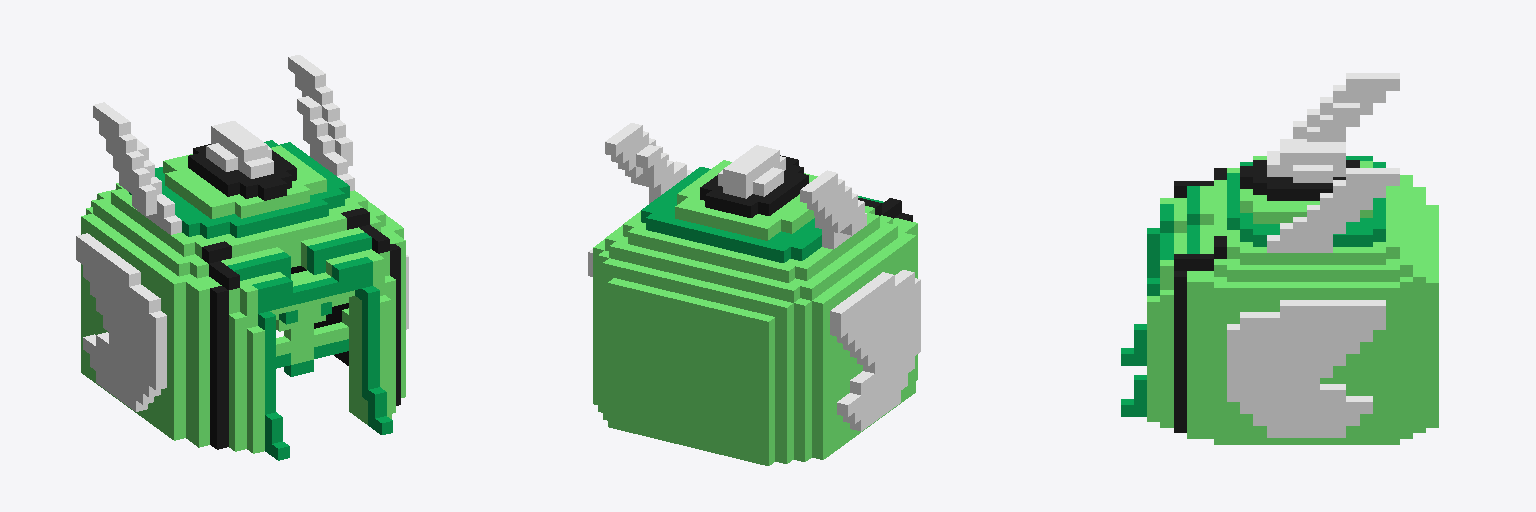
3 renders of one model, left to right at view 1: azimuth 30°, elevation 25°; view 2: azimuth 150°, elevation 25°; view 3: azimuth 270°, elevation 25°, orthographic.
Visible parts, largest first — view 1: object 1; view 2: object 1; view 3: object 1.
Part boxes in pixels (left/top/right/bottom): object 1: left=76, top=55, right=408, bottom=460; object 1: left=588, top=123, right=920, bottom=465; object 1: left=1121, top=73, right=1438, bottom=444.
Size of the model in its own units: 2.2 by 2.2 by 2.4.
Materials: 1 (1 with a texture image).